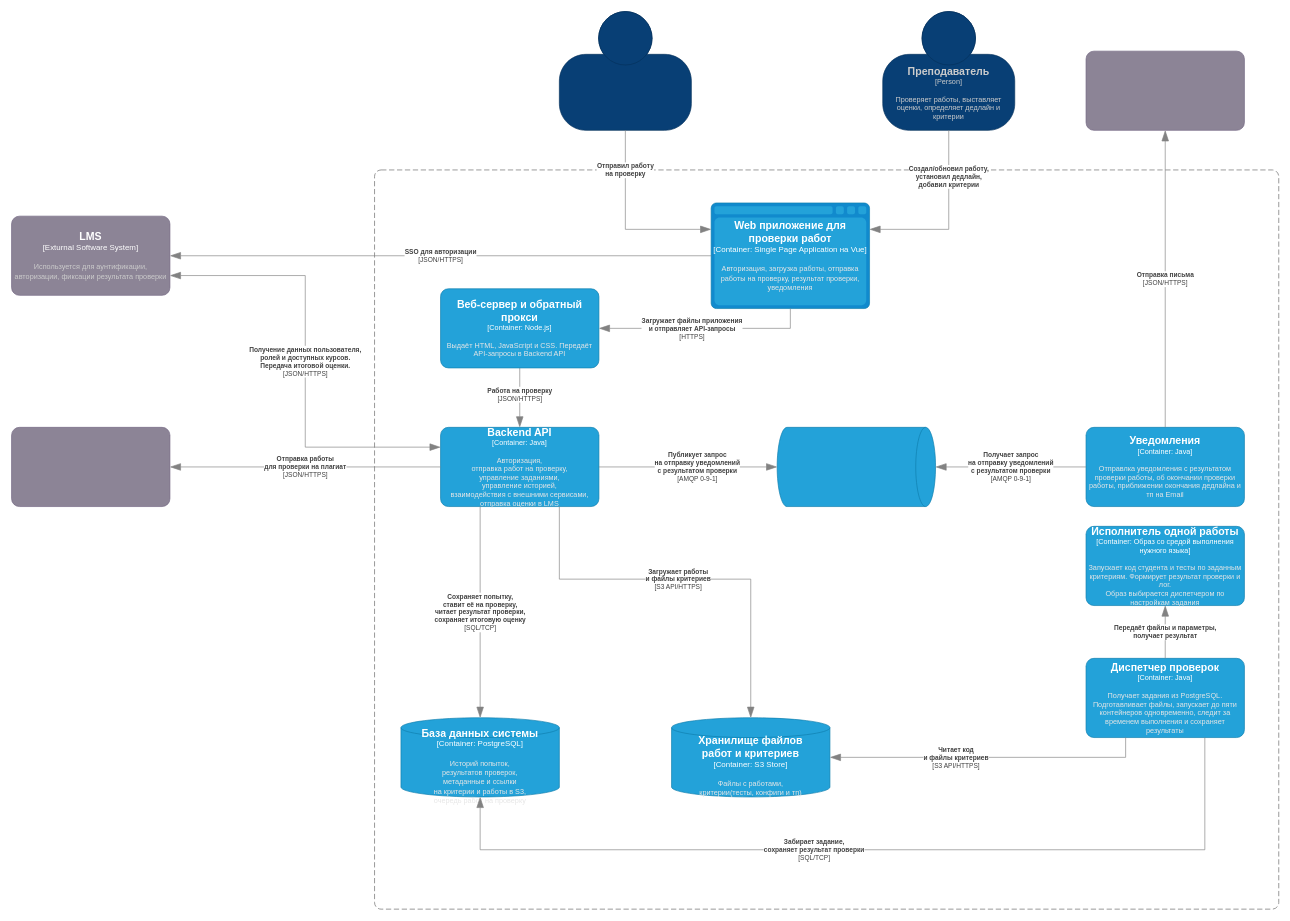
Some shapes in this 1290 by 921 pixel diagram are drawn without their labels. Here are the shapes that lost their labels. From the top down, the box of each, then its label:
(559, 11, 691, 130): Студент [Person] Учащийся университета
(1085, 50, 1244, 130): E-mail system [Exturnal Software System] Сервис отправки E-mail
(11, 427, 170, 507): TurnItIn [Exturnal Software System] Сервис проверки на плагиат
(776, 427, 936, 507): Очередь уведомлений [Container: RabbitMQ] Уведомления для студентов
(374, 169, 1279, 909): Проверка работ студентов [Software System]
